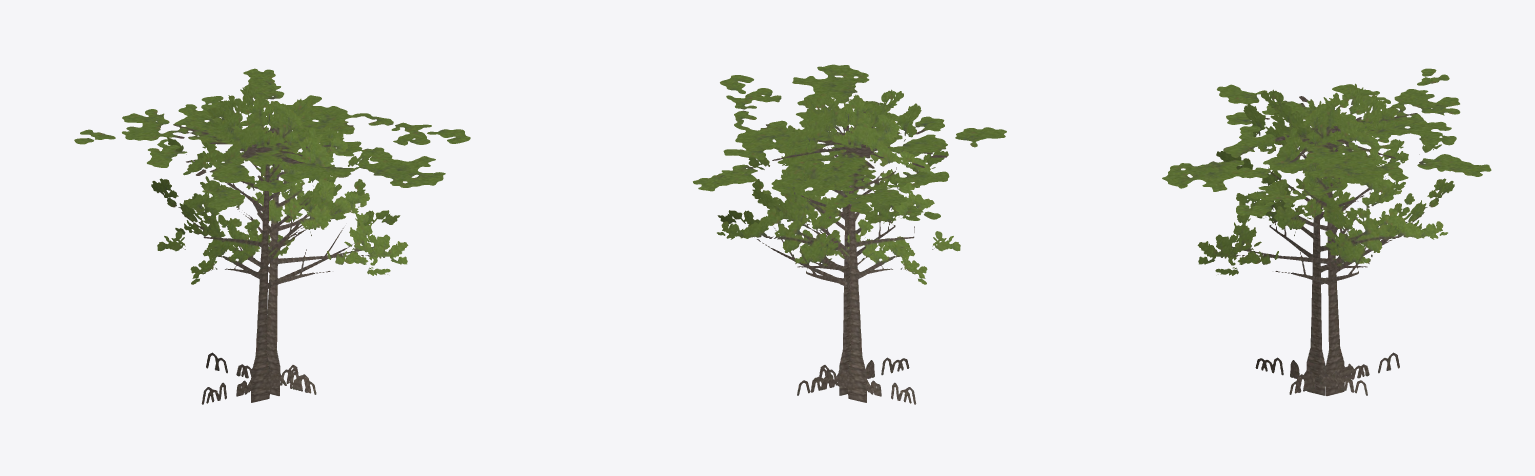
Rendered from brug_lod2.glb.
3 renders of one model, left to right at view 1: azimuth 30°, elevation 25°; view 2: azimuth 150°, elevation 25°; view 3: azimuth 270°, elevation 25°, orthographic.
Visible parts, largest first — view 1: lod2; view 2: lod2; view 3: lod2.
Part boxes in pixels (box(x1,y1,x2,y2)): lod2: box(74, 68, 470, 404); lod2: box(693, 64, 1006, 404); lod2: box(1162, 68, 1491, 395).
Size of the model in its own units: 9.98 by 8.98 by 9.98.
Materials: 1 (1 with a texture image).
